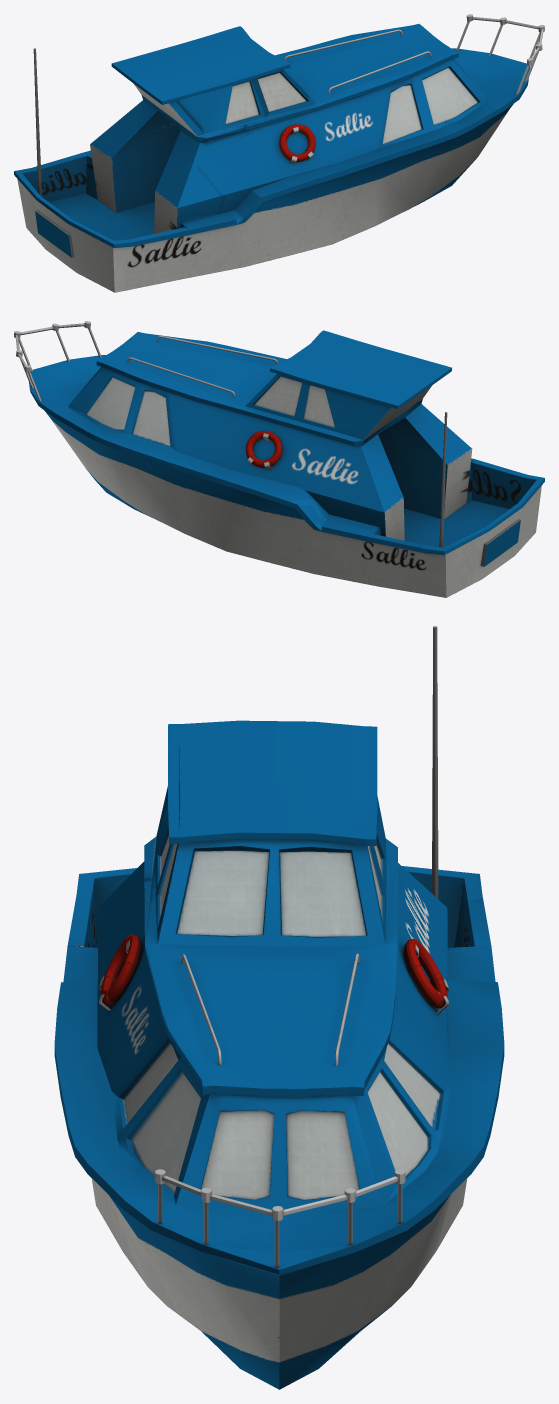
The model's file is SmallBoat.fbx.
The picture shows the model from 3 angles, top to bottom: view 1: azimuth 30°, elevation 25°; view 2: azimuth 150°, elevation 25°; view 3: azimuth 270°, elevation 25°; orthographic projection. The views are drawn at different scales.
Parts seen in each view (by area): view 1: SmallBoat:mesh; view 2: SmallBoat:mesh; view 3: SmallBoat:mesh.
Part boxes in pixels (x1,y1,x2,y2): SmallBoat:mesh: (14, 14, 544, 292); SmallBoat:mesh: (14, 321, 544, 597); SmallBoat:mesh: (54, 626, 504, 1389).
Size of the model in its own units: 987 by 391 by 391.
